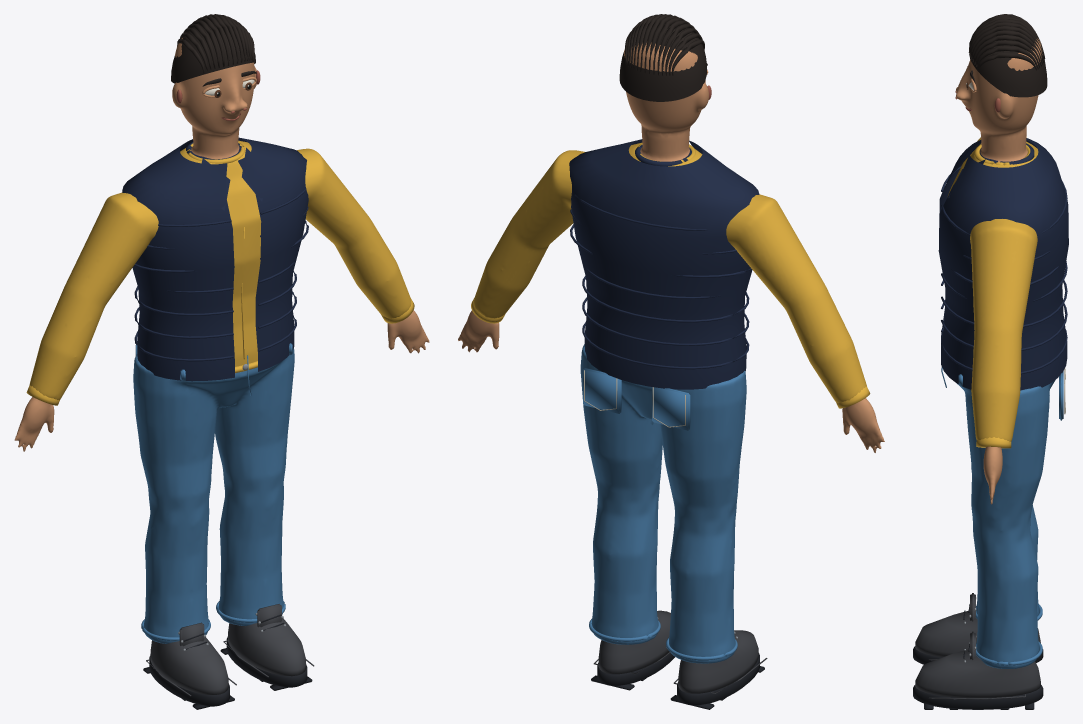
The model's file is NPC2_07_Civil_Male_PaddedVest.fbx.
3 views of the same model, side by side, from view 1: azimuth 30°, elevation 25°; view 2: azimuth 150°, elevation 25°; view 3: azimuth 270°, elevation 25° (orthographic). The views are drawn at different scales.
Visible parts, largest first — view 1: Trouser_Continuous.008, Padded_Vest, Garment_Top_Continuous.008, Skin_07_Civil_Male_PaddedVest, Shoe_Upper.016, Shoe_Upper.017, Hair_Cap.008, Shoe_Sole.017, Shoe_Sole.016; view 2: Padded_Vest, Trouser_Continuous.008, Garment_Top_Continuous.008, Skin_07_Civil_Male_PaddedVest, Hair_Cap.008, Shoe_Upper.016, Shoe_Upper.017, Back_Pocket.016, Back_Pocket.017, Shoe_Sole.016, Shoe_Sole.017; view 3: Padded_Vest, Trouser_Continuous.008, Garment_Top_Continuous.008, Skin_07_Civil_Male_PaddedVest, Shoe_Upper.017, Hair_Cap.008, Shoe_Upper.016, Shoe_Sole.017, Hair_SweptLock.059, Hair_SweptLock.043, Hair_SweptLock.060, Hair_SweptLock.042 (+11 smaller).
Part boxes in pixels (x1,y1,x2,y2): Trouser_Continuous.008: (133, 348, 294, 643); Padded_Vest: (122, 137, 308, 381); Garment_Top_Continuous.008: (29, 140, 411, 399); Skin_07_Civil_Male_PaddedVest: (14, 38, 429, 451); Shoe_Upper.016: (150, 637, 228, 694); Shoe_Upper.017: (228, 618, 306, 676); Hair_Cap.008: (171, 24, 255, 83); Shoe_Sole.017: (226, 636, 307, 687); Shoe_Sole.016: (149, 656, 229, 706); Padded_Vest: (569, 139, 759, 389); Trouser_Continuous.008: (580, 344, 746, 663); Garment_Top_Continuous.008: (474, 142, 866, 403); Skin_07_Civil_Male_PaddedVest: (458, 42, 884, 452); Hair_Cap.008: (619, 24, 707, 101); Shoe_Upper.016: (678, 630, 758, 693); Shoe_Upper.017: (598, 610, 670, 674); Back_Pocket.016: (652, 387, 690, 430); Back_Pocket.017: (583, 368, 621, 413); Shoe_Sole.016: (677, 653, 759, 705); Shoe_Sole.017: (597, 653, 674, 685); Padded_Vest: (938, 138, 1068, 390); Trouser_Continuous.008: (956, 380, 1055, 668); Garment_Top_Continuous.008: (947, 137, 1038, 441); Skin_07_Civil_Male_PaddedVest: (956, 38, 1042, 504); Shoe_Upper.017: (915, 649, 1040, 698); Hair_Cap.008: (969, 36, 1047, 97); Shoe_Upper.016: (915, 610, 1040, 657); Shoe_Sole.017: (913, 685, 1043, 709); Hair_SweptLock.059: (972, 35, 1041, 66); Hair_SweptLock.043: (971, 30, 1042, 64); Hair_SweptLock.060: (974, 40, 1039, 67); Hair_SweptLock.042: (970, 26, 1043, 62).
Size of the model in its own units: 1.24 by 1.86 by 0.3953.
